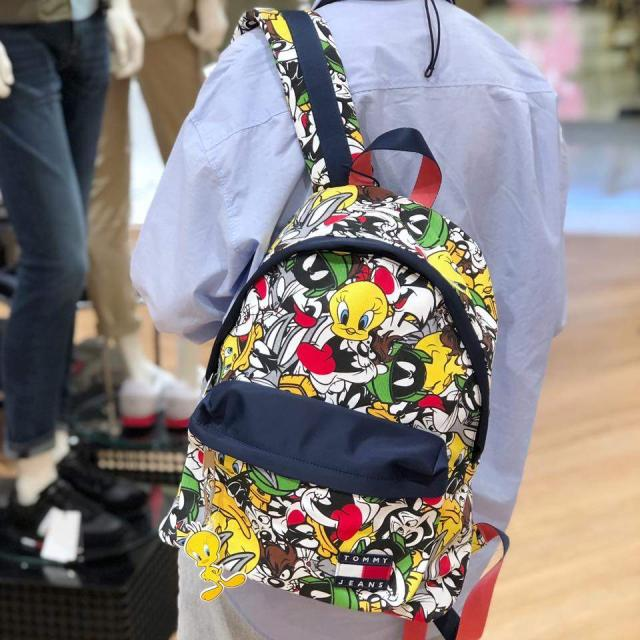handbag: (164, 174, 498, 630)
